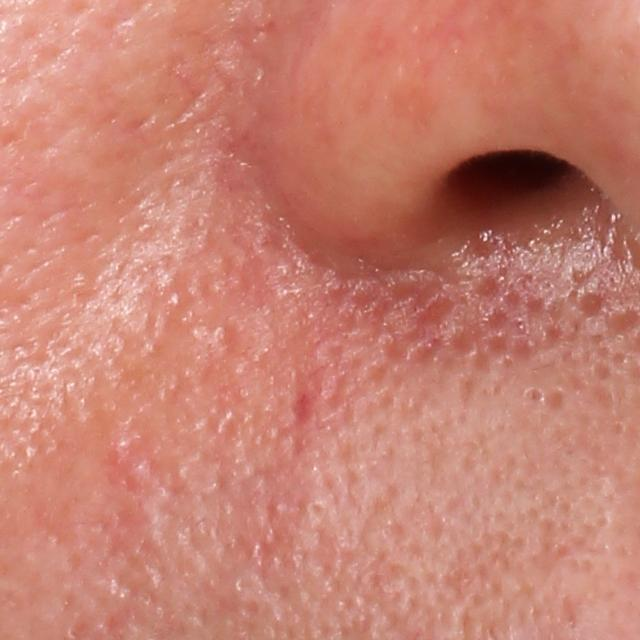atrophic_scar: (277, 374, 324, 460), (404, 292, 461, 334), (575, 289, 606, 320)
comedo: (515, 382, 553, 414)
